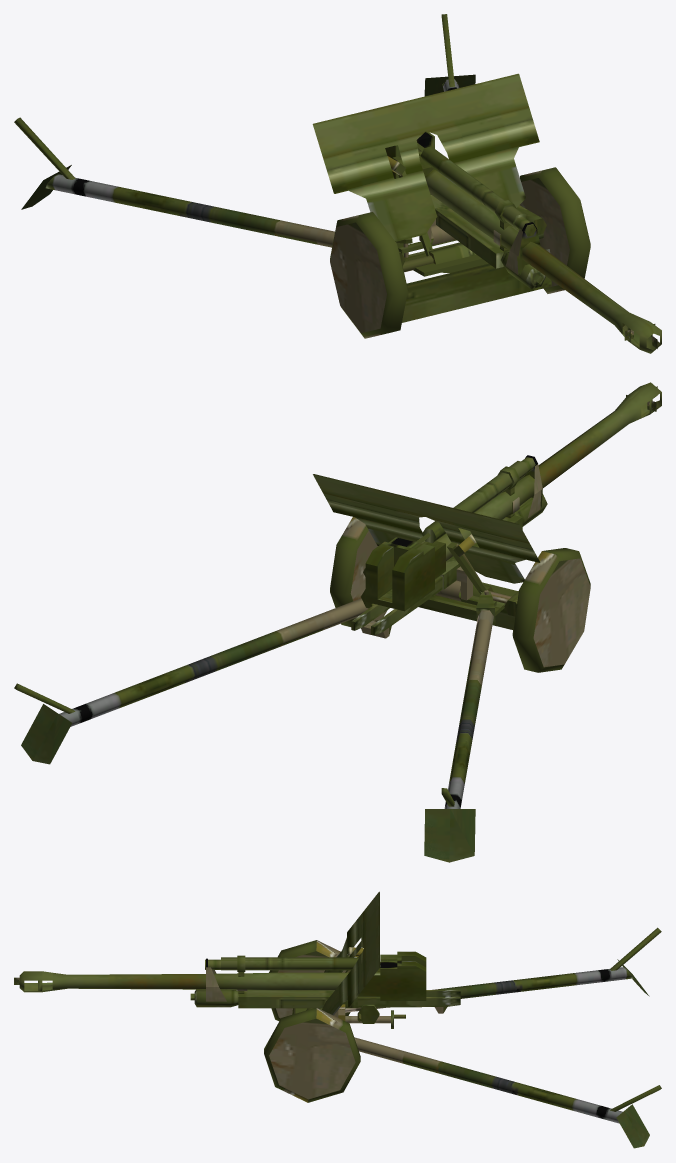
File: RUSZiS3.dae
The picture shows the model from 3 angles, top to bottom: view 1: azimuth 30°, elevation 25°; view 2: azimuth 150°, elevation 25°; view 3: azimuth 270°, elevation 25°; orthographic projection. The views are drawn at different scales.
Parts seen in each view (by area): view 1: carriage, barrel, sleeve; view 2: carriage, barrel, sleeve; view 3: carriage, barrel, sleeve.
Part boxes in pixels (x1,y1,x2,y2): carriage: [14, 14, 590, 338]; barrel: [385, 131, 661, 353]; sleeve: [419, 146, 545, 288]; carriage: [14, 474, 590, 862]; barrel: [365, 382, 661, 611]; sleeve: [351, 455, 547, 638]; carriage: [264, 891, 661, 1148]; barrel: [19, 951, 426, 1000]; sleeve: [190, 955, 460, 1028].
Size of the model in its own units: 26.69 by 43.61 by 10.38.
